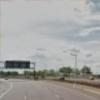buses: (1, 51, 38, 79)
